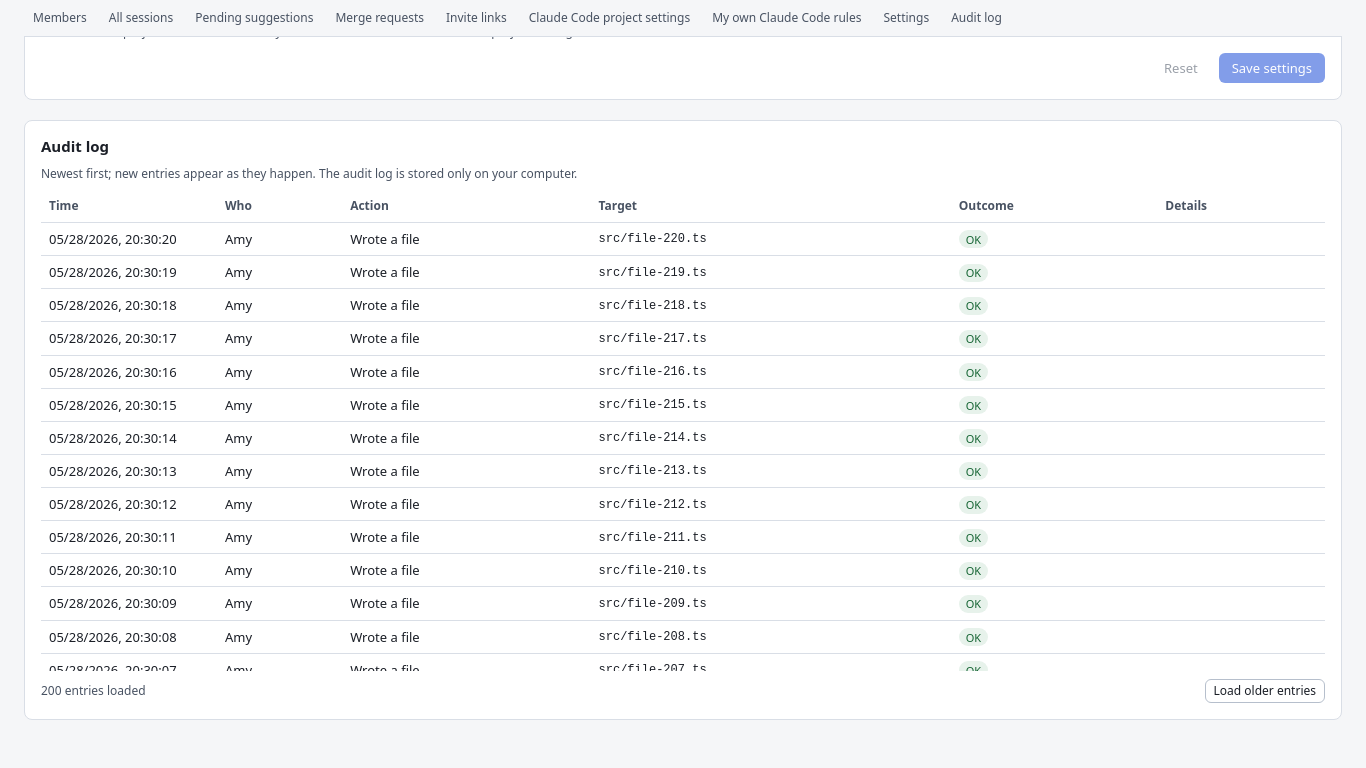
Test: host console: audit log › audit paging: loads older pages with admin.audit.query {before}
The width and height of the screenshot is (1366, 768).
(page scrolled)
Click the button "Load older entries". click: (1265, 691)
box: [1204,679,1325,703]
(page scrolled)
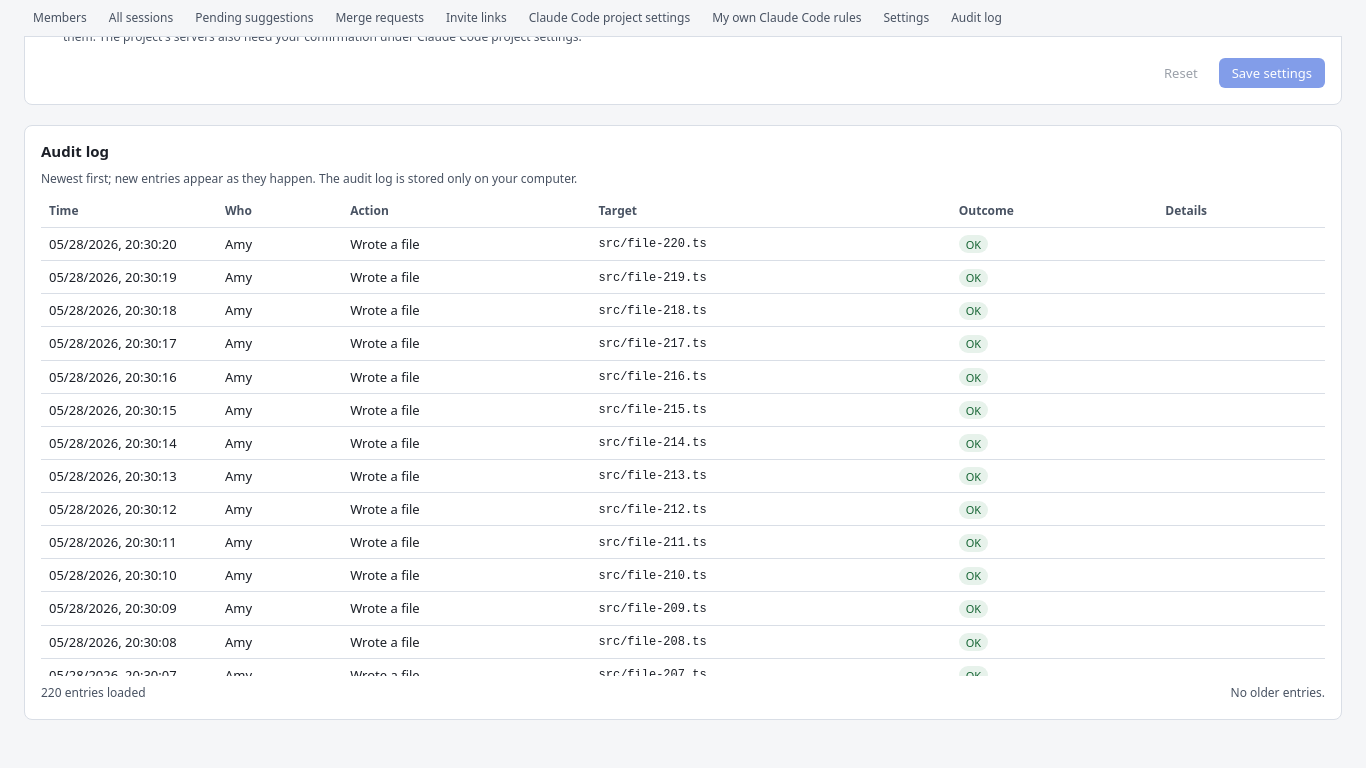
Result: the text "No older entries." is shown at [1231,684,1325,703]
Result: the button "Load older entries" is gone
